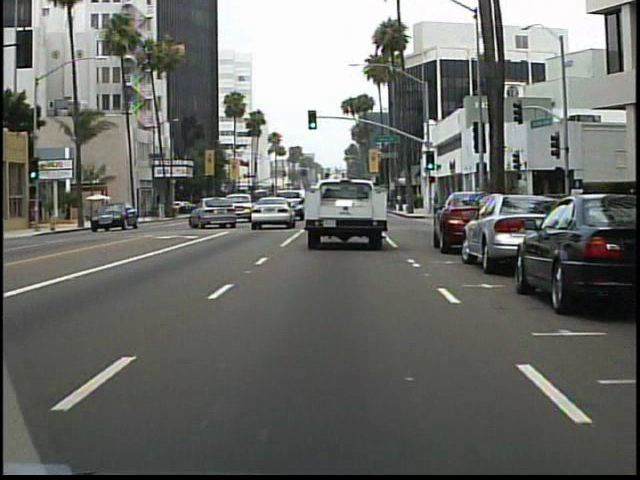person: (429, 188, 443, 216)
